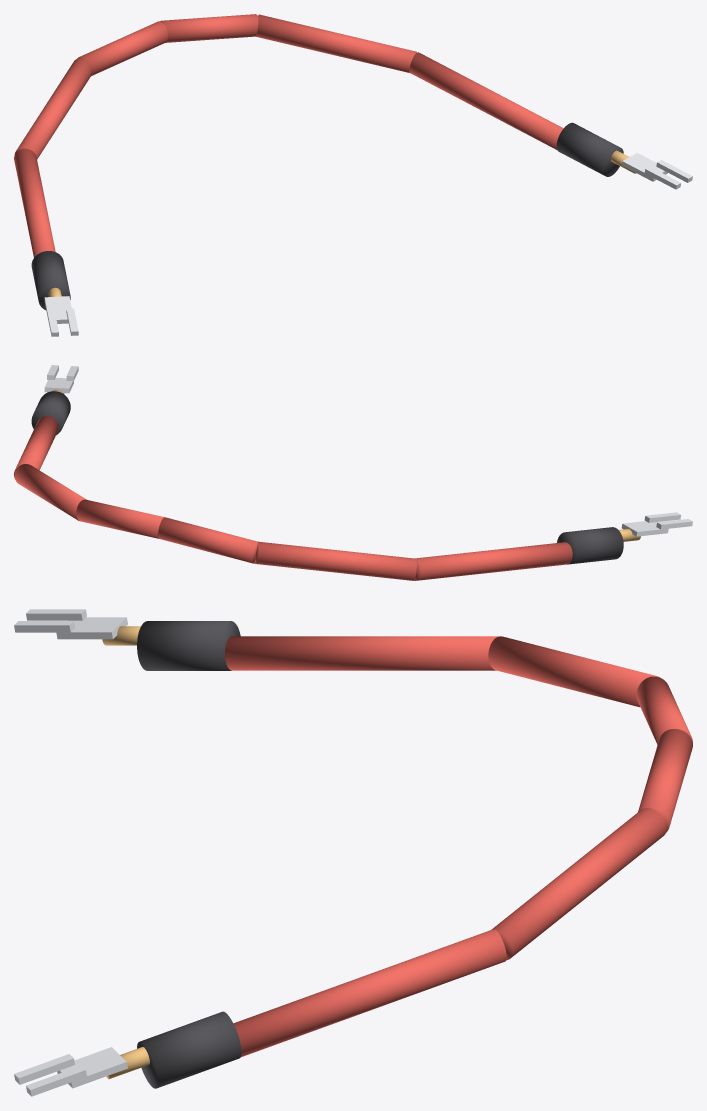
Rendered from connecting-wire.glb.
3 renders of one model, top to bottom at view 1: azimuth 30°, elevation 25°; view 2: azimuth 150°, elevation 25°; view 3: azimuth 270°, elevation 25°, orthographic. The views are drawn at different scales.
Parts seen in each view (by area): view 1: connecting-wire-seg-5, connecting-wire-seg-4, connecting-wire-seg-1, connecting-wire-seg-0, connecting-wire-seg-3, connecting-wire-boot-end-right, connecting-wire-seg-2, connecting-wire-boot-end-left, connecting-wire-spade-stem-end-right, connecting-wire-spade-stem-end-left; view 2: connecting-wire-seg-1, connecting-wire-seg-0, connecting-wire-seg-2, connecting-wire-seg-3, connecting-wire-boot-end-left, connecting-wire-seg-4, connecting-wire-seg-5, connecting-wire-boot-end-right, connecting-wire-spade-stem-end-left, connecting-wire-spade-stem-end-right; view 3: connecting-wire-seg-5, connecting-wire-seg-0, connecting-wire-seg-4, connecting-wire-seg-1, connecting-wire-boot-end-right, connecting-wire-boot-end-left, connecting-wire-seg-3, connecting-wire-seg-2, connecting-wire-spade-stem-end-right, connecting-wire-spade-stem-end-left, connecting-wire-fork-r-end-right, connecting-wire-fork-l-end-right.
Boxes of the visible parts, x1,y1,x2,y2 form: connecting-wire-seg-5: (409, 52, 563, 149); connecting-wire-seg-4: (256, 14, 416, 72); connecting-wire-seg-1: (14, 58, 92, 159); connecting-wire-seg-0: (14, 148, 55, 257); connecting-wire-seg-3: (160, 14, 258, 42); connecting-wire-boot-end-right: (556, 122, 623, 176); connecting-wire-seg-2: (77, 21, 167, 76); connecting-wire-boot-end-left: (31, 251, 70, 310); connecting-wire-spade-stem-end-right: (621, 153, 667, 181); connecting-wire-spade-stem-end-left: (44, 296, 71, 323); connecting-wire-seg-1: (254, 541, 416, 580); connecting-wire-seg-0: (414, 542, 572, 580); connecting-wire-seg-2: (158, 517, 257, 563); connecting-wire-seg-3: (76, 499, 164, 538); connecting-wire-boot-end-left: (557, 527, 623, 564); connecting-wire-seg-4: (14, 464, 86, 520); connecting-wire-seg-5: (14, 416, 58, 478); connecting-wire-boot-end-right: (31, 391, 70, 435); connecting-wire-spade-stem-end-left: (621, 521, 668, 536); connecting-wire-spade-stem-end-right: (44, 377, 73, 393); connecting-wire-seg-5: (233, 929, 506, 1056); connecting-wire-seg-0: (225, 636, 499, 670); connecting-wire-seg-4: (491, 807, 666, 960); connecting-wire-seg-1: (488, 636, 660, 707); connecting-wire-boot-end-right: (137, 1011, 241, 1088); connecting-wire-boot-end-left: (137, 621, 240, 670); connecting-wire-seg-3: (638, 729, 692, 832); connecting-wire-seg-2: (636, 676, 692, 744); connecting-wire-spade-stem-end-right: (57, 1047, 127, 1088); connecting-wire-spade-stem-end-left: (56, 617, 127, 639); connecting-wire-fork-r-end-right: (14, 1054, 75, 1084); connecting-wire-fork-l-end-right: (26, 1065, 86, 1096).
Size of the model in its own units: 0.1483 by 0.0215 by 0.0885.
